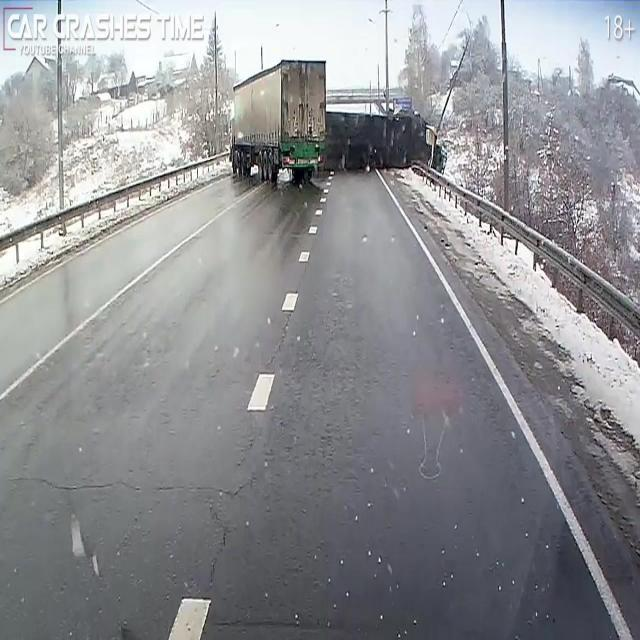accident: (225, 53, 446, 189)
